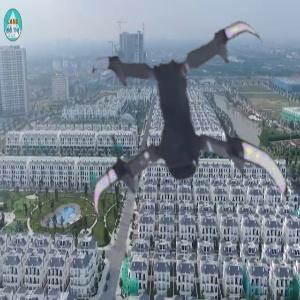drone: (71, 29, 295, 253)
